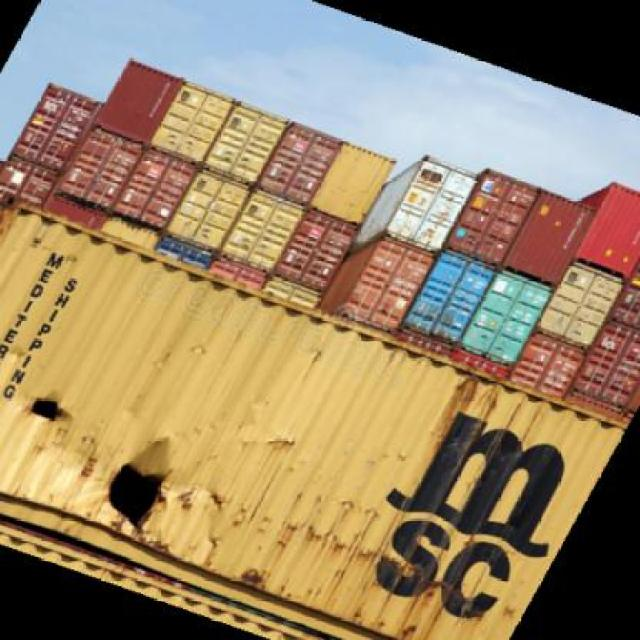hole: (99, 443, 175, 560), (23, 389, 80, 440)
